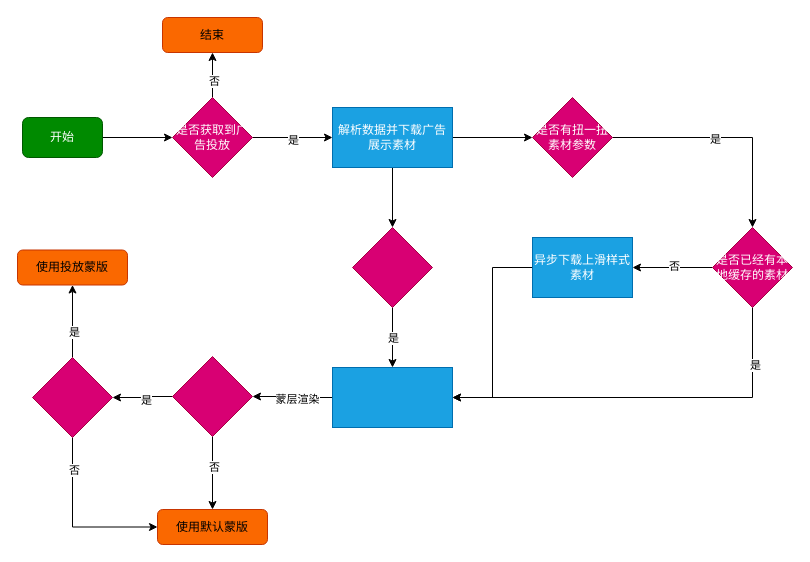
The diagram is 810 pixels wide and 562 high, and some of its shapes have lost their labels. The shapes that lost their labels are listed below. From the top down, each one's box as (x1, y1, x2, y2) in pixels, then its label:
(352, 226, 432, 308): 展示是否为自有广告
(32, 356, 112, 438): Lottie是否展示成功
(172, 356, 252, 436): 模版是否下载成功
(332, 366, 452, 428): 展示广告和蒙版样式
